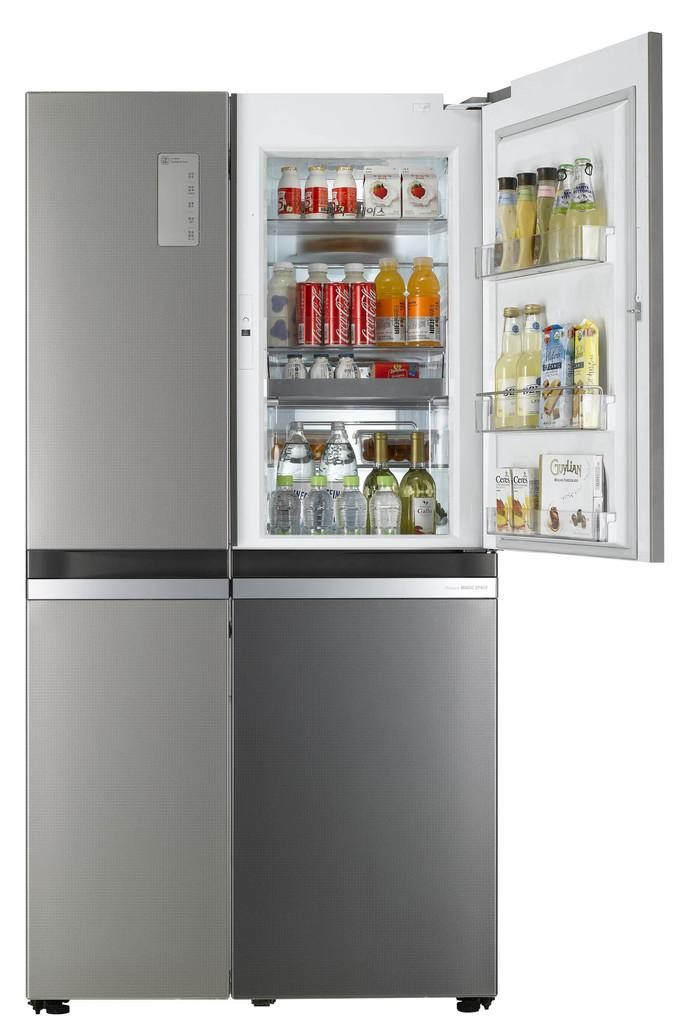handle: (234, 556, 492, 610), (23, 572, 226, 627)
